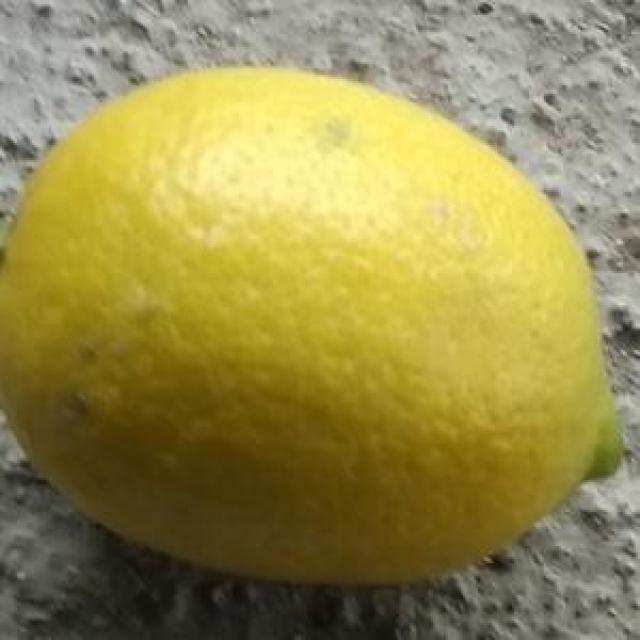lemon: (5, 64, 626, 586)
